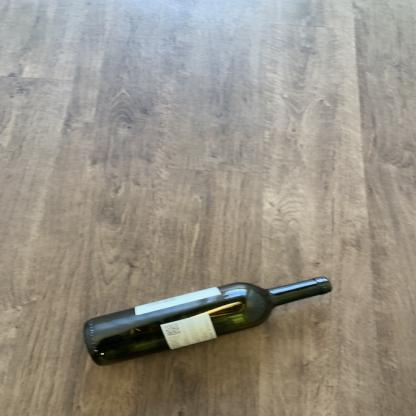trash: (82, 272, 335, 368)
